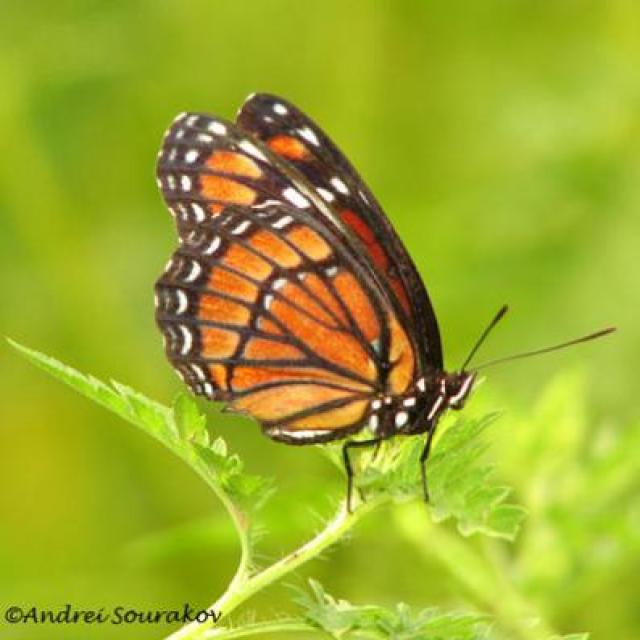antennae: (455, 298, 614, 392)
body: (358, 370, 484, 442)
insect: (149, 90, 619, 513)
legs: (333, 424, 466, 517)
wings: (152, 93, 446, 443)
